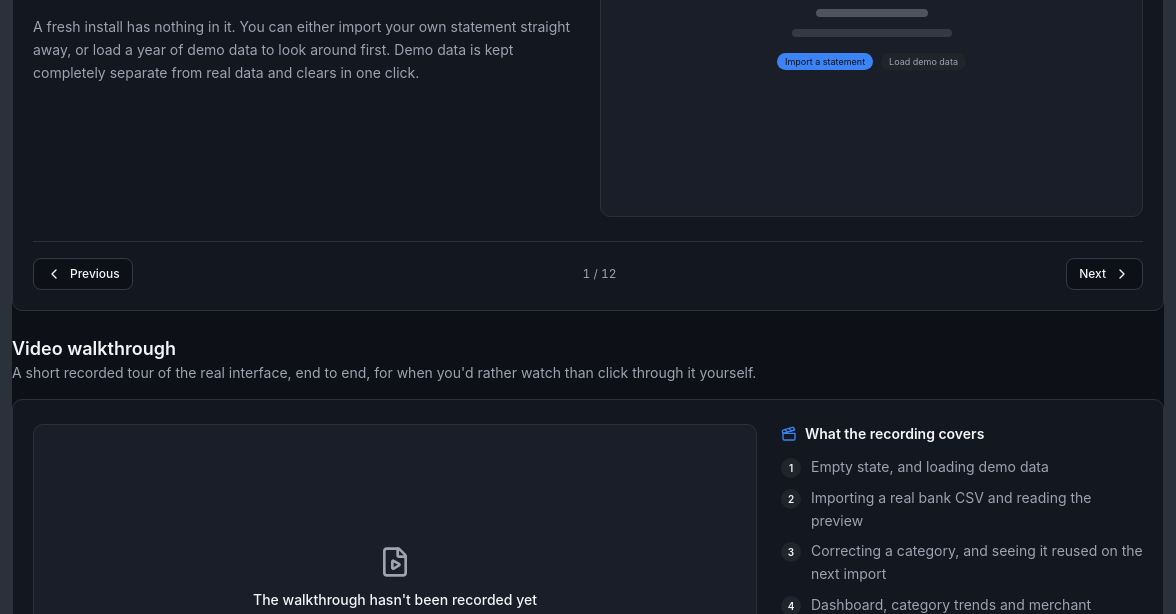
Test case: HowItWorksPage › app walkthrough › wraps around when stepping back from the first step
(page scrolled)
Click the button "Previous" at (83, 274), box top-left (33, 258), bottom-right (133, 290)
(page scrolled)
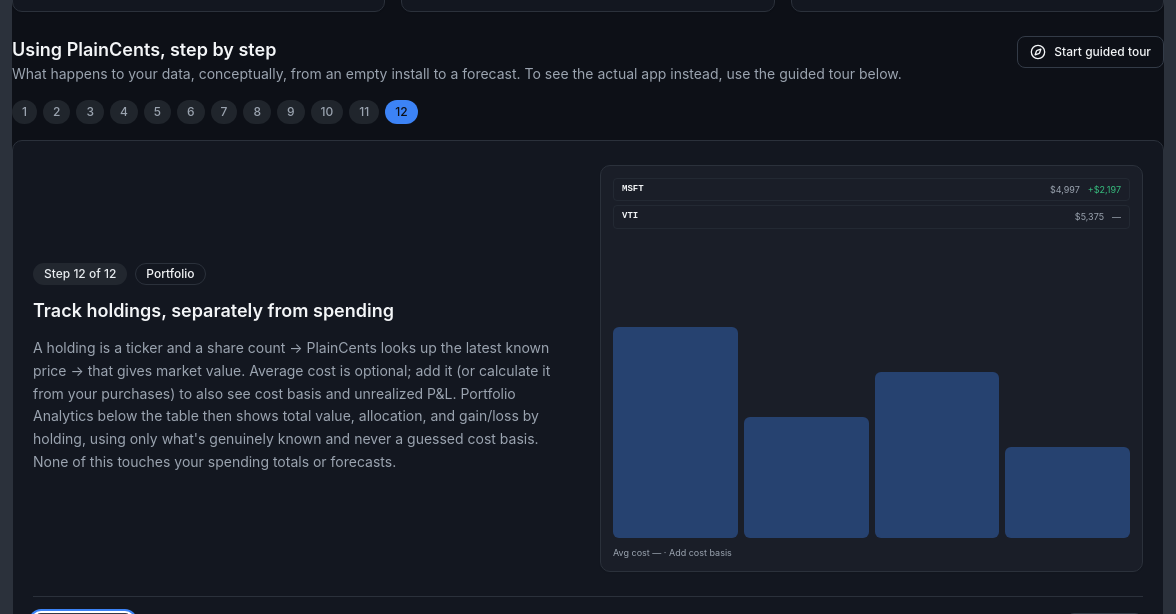
expect the text "Step 12 of 12" is shown: met, box top-left (33, 263), bottom-right (127, 285)
